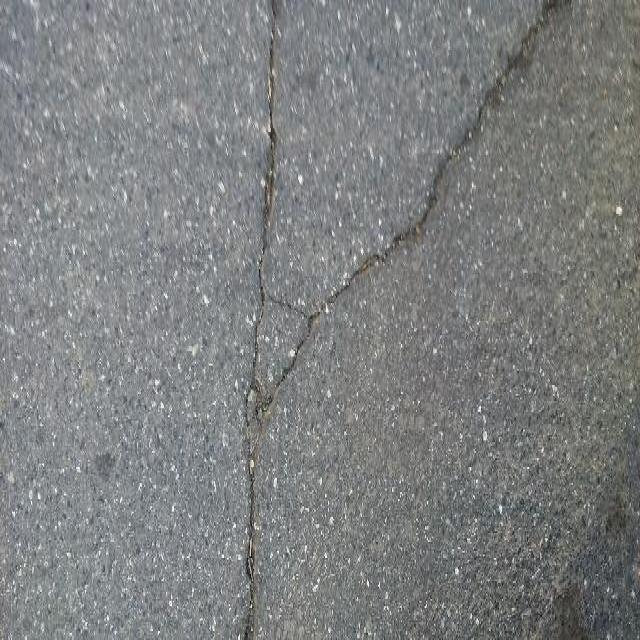Crack: (256, 5, 588, 438), (234, 0, 290, 640)
